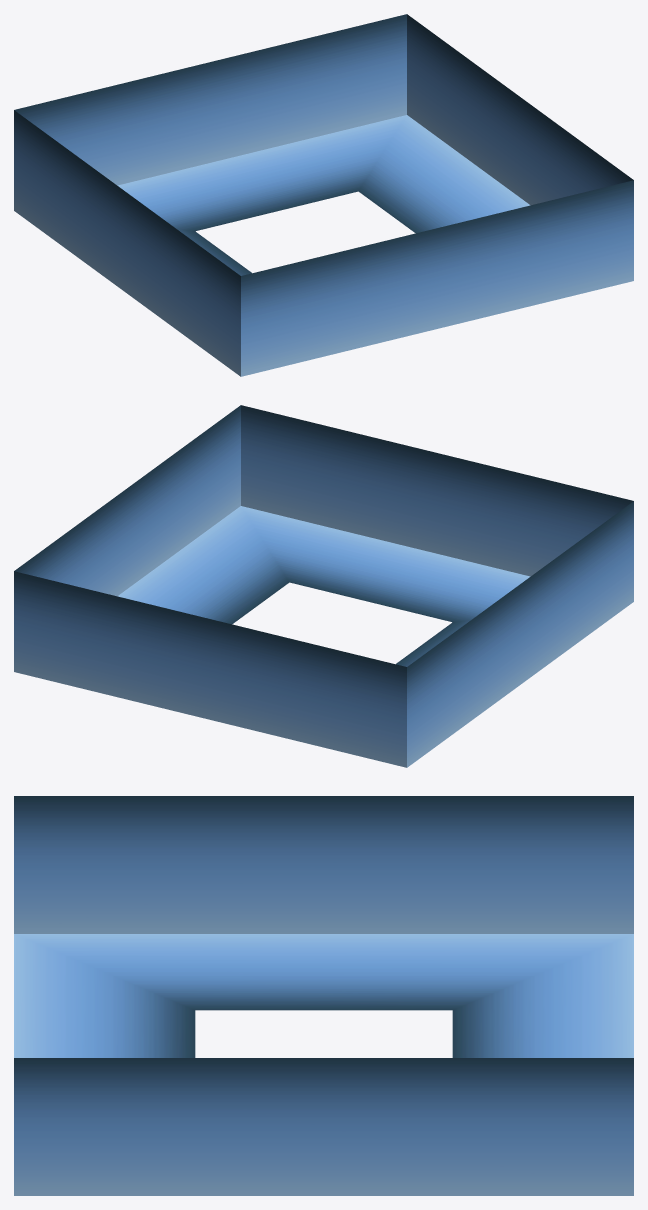
The model's file is SM_Onboarding_Zone_01.fbx.
3 renders of one model, top to bottom at view 1: azimuth 30°, elevation 25°; view 2: azimuth 150°, elevation 25°; view 3: azimuth 270°, elevation 25°, orthographic. The views are drawn at different scales.
Parts seen in each view (by area): view 1: SM_Onboarding_Zone_01; view 2: SM_Onboarding_Zone_01; view 3: SM_Onboarding_Zone_01.
Part boxes in pixels (<box>): SM_Onboarding_Zone_01: <box>14,14,633,376</box>; SM_Onboarding_Zone_01: <box>14,405,633,767</box>; SM_Onboarding_Zone_01: <box>14,796,633,1195</box>.
Size of the model in its own units: 2 by 0.4902 by 2.
